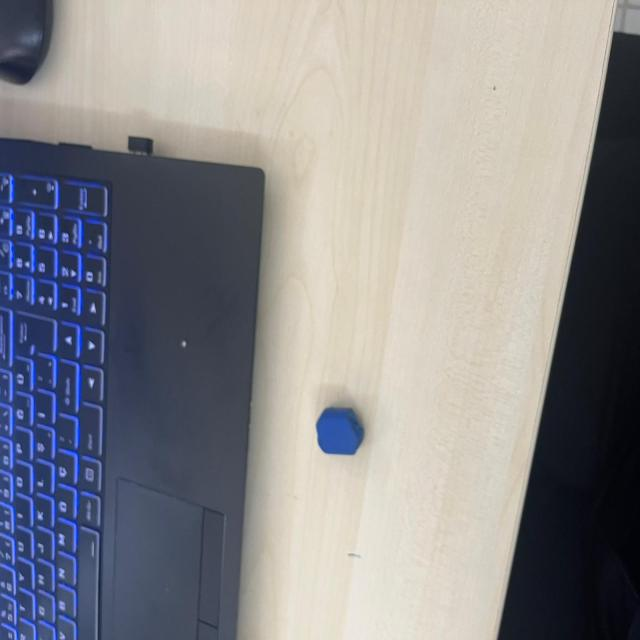eraser: (314, 403, 368, 458)
